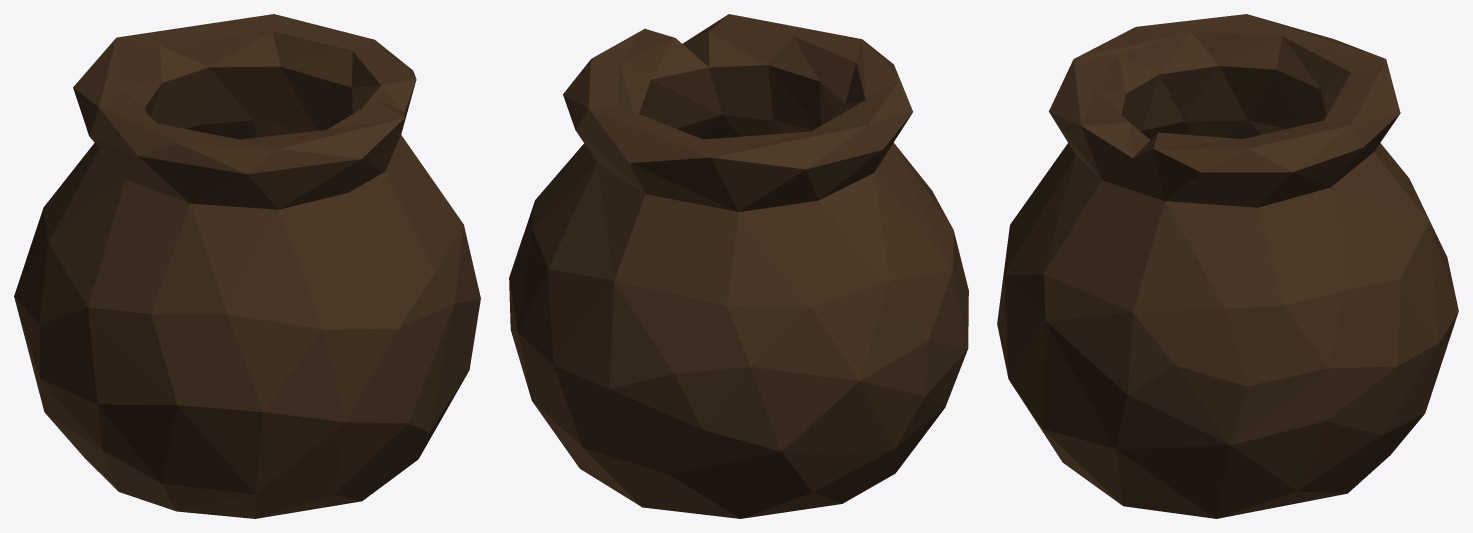
Rendered from MDungeon_Pot_01.FBX.
3 renders of one model, left to right at view 1: azimuth 30°, elevation 25°; view 2: azimuth 150°, elevation 25°; view 3: azimuth 270°, elevation 25°, orthographic.
Visible parts, largest first — view 1: MDungeon_Pot_01_LOD0; view 2: MDungeon_Pot_01_LOD0; view 3: MDungeon_Pot_01_LOD0.
Boxes of the visible parts, bbox=[...] form: MDungeon_Pot_01_LOD0: bbox=[14, 14, 480, 518]; MDungeon_Pot_01_LOD0: bbox=[509, 14, 968, 518]; MDungeon_Pot_01_LOD0: bbox=[997, 14, 1458, 518].
Size of what is drawn, in the model's own units: 0.739 by 0.6941 by 0.7424.
